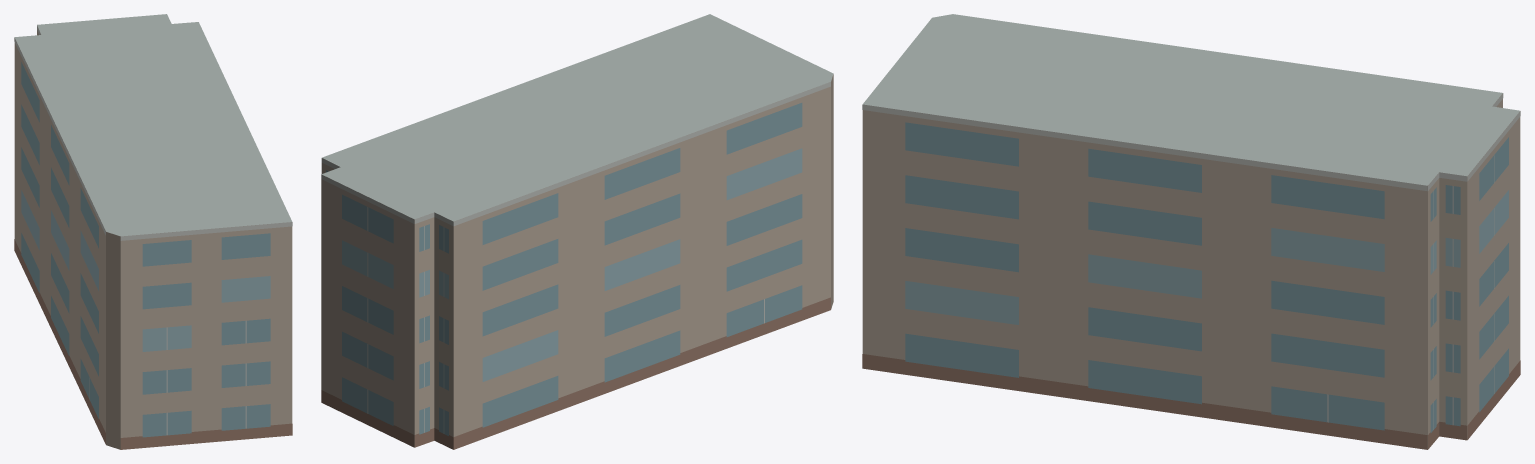
The model's file is survey-upis-32918946.glb.
3 views of the same model, side by side, from view 1: azimuth 30°, elevation 25°; view 2: azimuth 150°, elevation 25°; view 3: azimuth 270°, elevation 25° (orthographic). The views are drawn at different scales.
Parts seen in each view (by area): view 1: survey-upis-32918946.tmp; view 2: survey-upis-32918946.tmp; view 3: survey-upis-32918946.tmp.
Boxes of the visible parts, x1,y1,x2,y2 form: survey-upis-32918946.tmp: [14, 14, 292, 449]; survey-upis-32918946.tmp: [321, 14, 833, 449]; survey-upis-32918946.tmp: [862, 14, 1520, 449].
Size of the model in its own units: 16.33 by 11.7 by 26.43.
